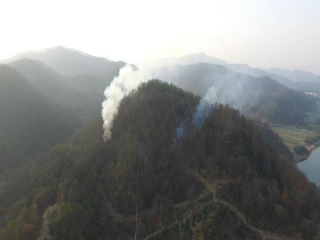smoke: (102, 58, 157, 146), (175, 83, 221, 144)
